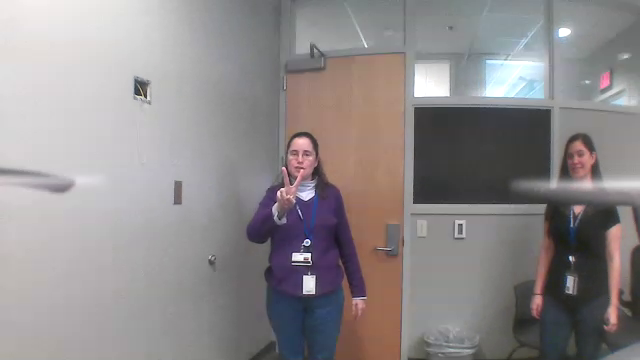peace: (271, 162, 309, 214)
